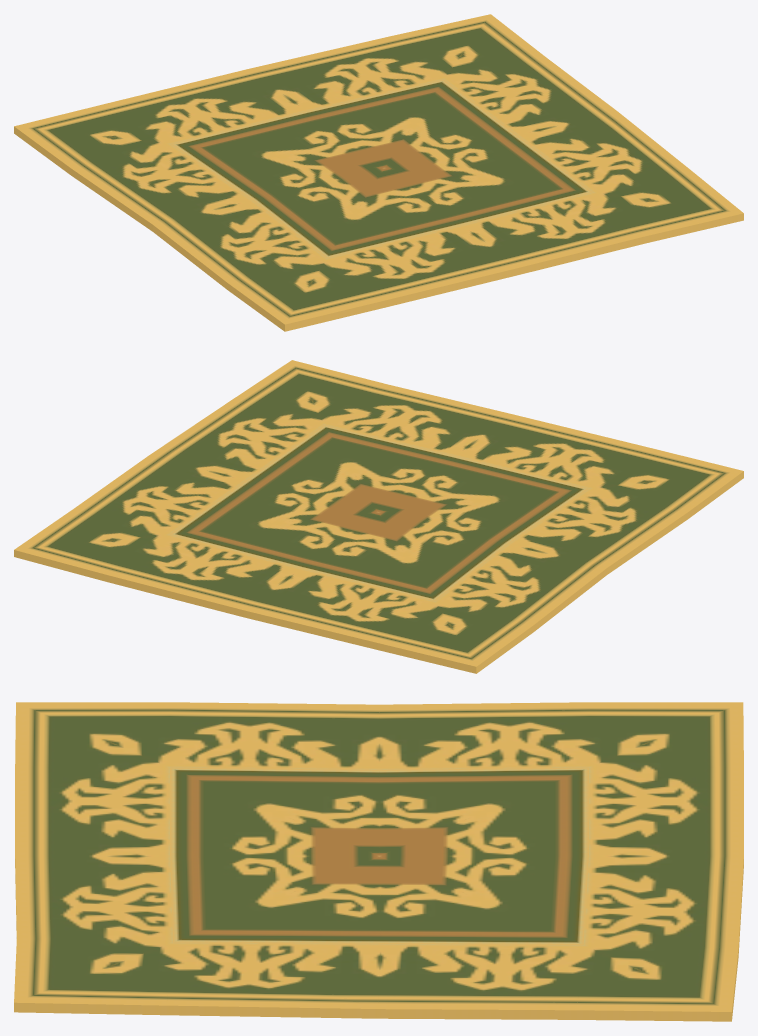
The model's file is elven_SM_Prop_Rug_02.gltf.
3 renders of one model, top to bottom at view 1: azimuth 30°, elevation 25°; view 2: azimuth 150°, elevation 25°; view 3: azimuth 270°, elevation 25°, orthographic. The views are drawn at different scales.
Parts seen in each view (by area): view 1: SM_Prop_Rug_02; view 2: SM_Prop_Rug_02; view 3: SM_Prop_Rug_02.
Part boxes in pixels (x1=…): SM_Prop_Rug_02: x1=14, y1=14, x2=743, y2=331; SM_Prop_Rug_02: x1=14, y1=360, x2=743, y2=673; SM_Prop_Rug_02: x1=14, y1=702, x2=743, y2=1021.
Bounding box in the file's own units: 2.3 × 0.0334 × 2.29.
1 material, 1 textured.
